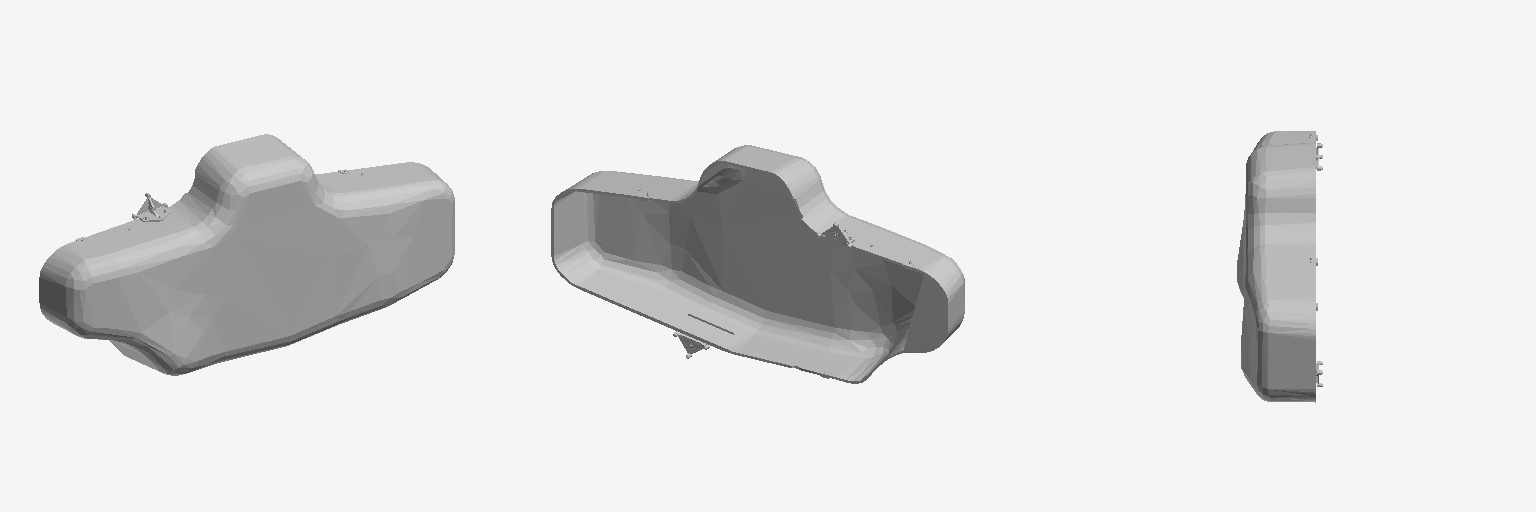
The model's file is MHS_DebrisShield.obj.
3 views of the same model, side by side, from view 1: azimuth 30°, elevation 25°; view 2: azimuth 150°, elevation 25°; view 3: azimuth 270°, elevation 25° (orthographic).
Parts seen in each view (by area): view 1: MHS_DebrisShield.obj; view 2: MHS_DebrisShield.obj; view 3: MHS_DebrisShield.obj.
Part boxes in pixels (x1,y1,x2,y2): MHS_DebrisShield.obj: (39,134,454,375); MHS_DebrisShield.obj: (551,145,964,383); MHS_DebrisShield.obj: (1237,131,1322,402).
Bounding box in the file's own units: 1.31 × 0.6421 × 0.2461.